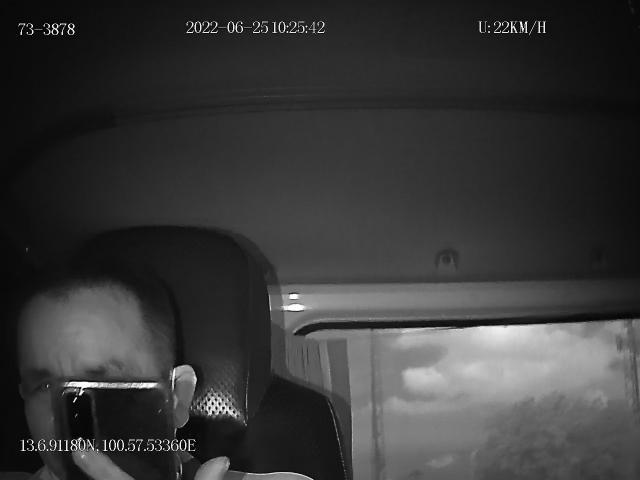Phone: (55, 380, 182, 480)
